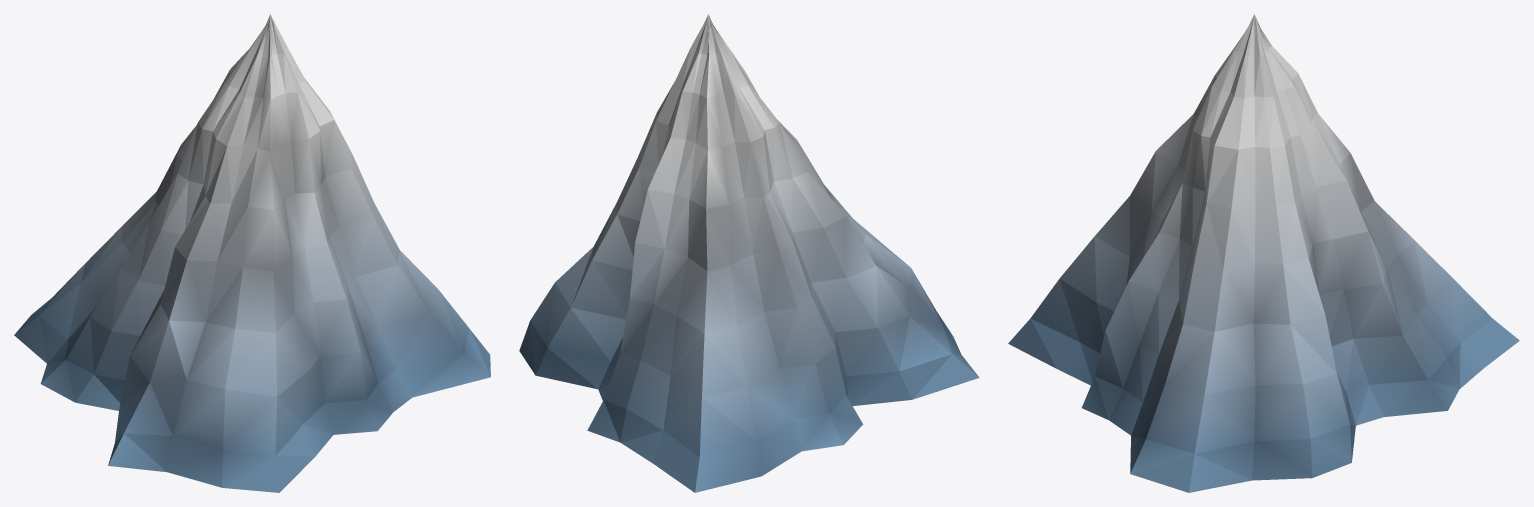
Rendered from glacier-s2-LKd98XPd.glb.
The picture shows the model from 3 angles, left to right: view 1: azimuth 30°, elevation 25°; view 2: azimuth 150°, elevation 25°; view 3: azimuth 270°, elevation 25°; orthographic projection. The views are drawn at different scales.
Visible parts, largest first — view 1: sc_peak_1; view 2: sc_peak_1; view 3: sc_peak_1.
Boxes of the visible parts, box(x1,y1,x2,y2) form: sc_peak_1: box(14, 14, 490, 492); sc_peak_1: box(519, 14, 979, 492); sc_peak_1: box(1008, 14, 1519, 492).
Size of the model in its own units: 127 by 109 by 132.
